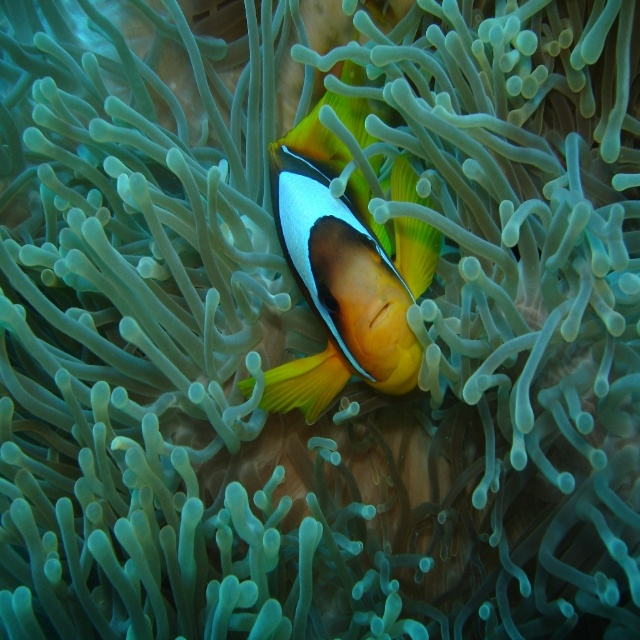Fish: (236, 58, 445, 426)
